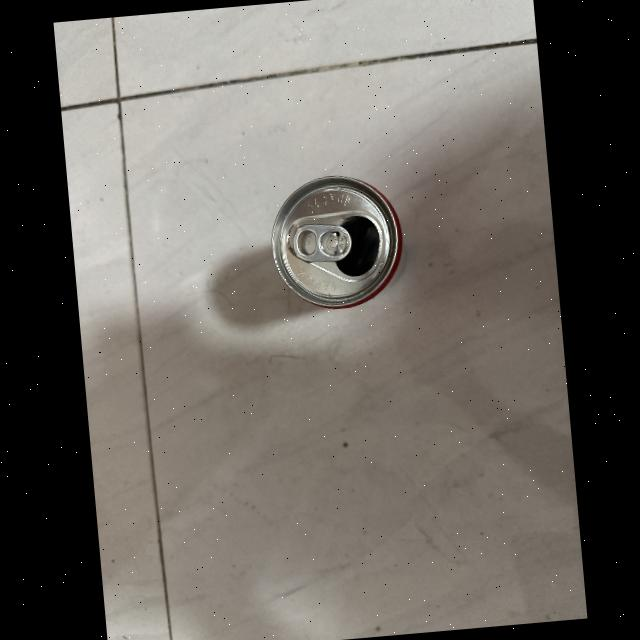Cola: (252, 154, 418, 329)
